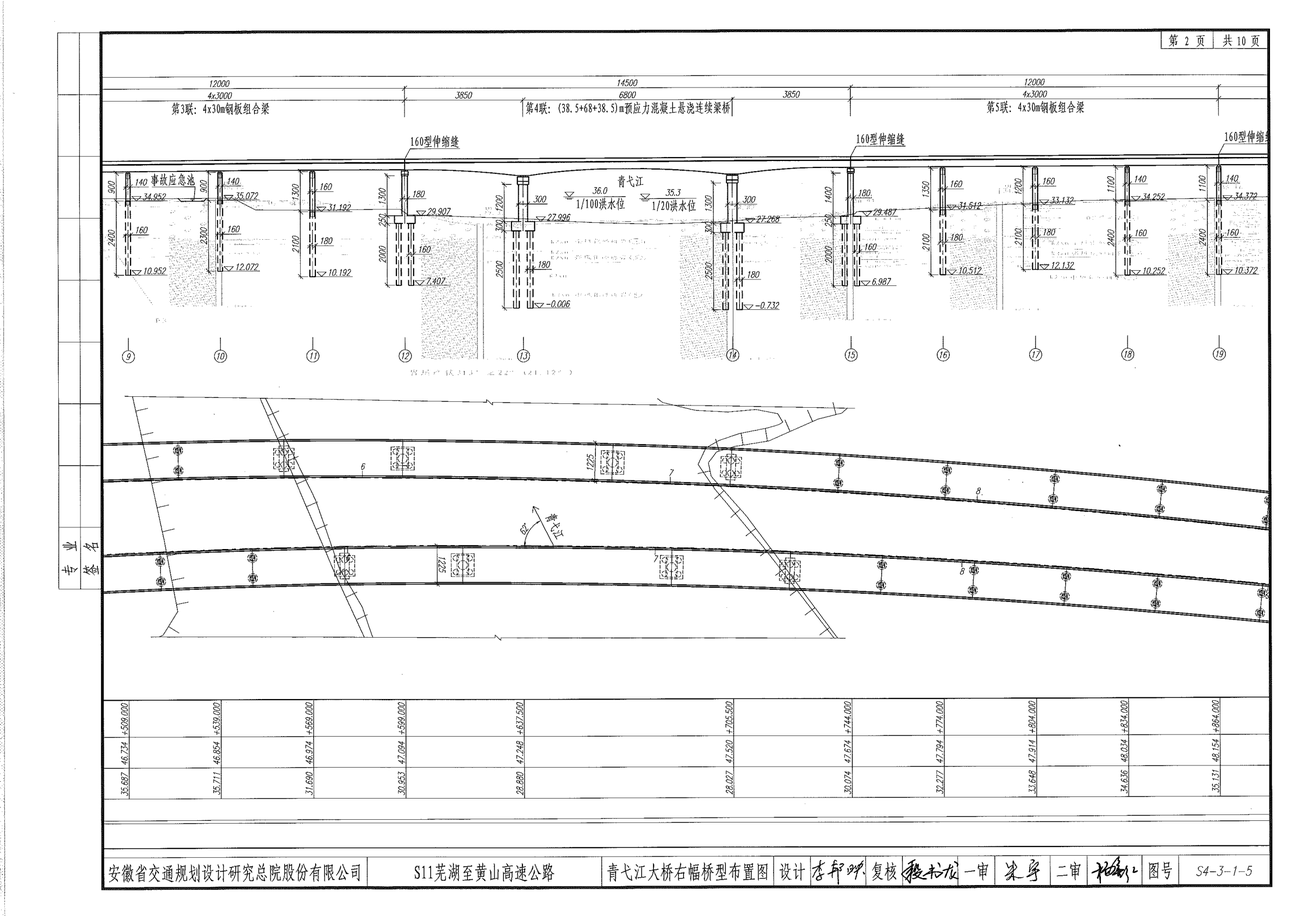A: (77, 54, 1279, 375)
